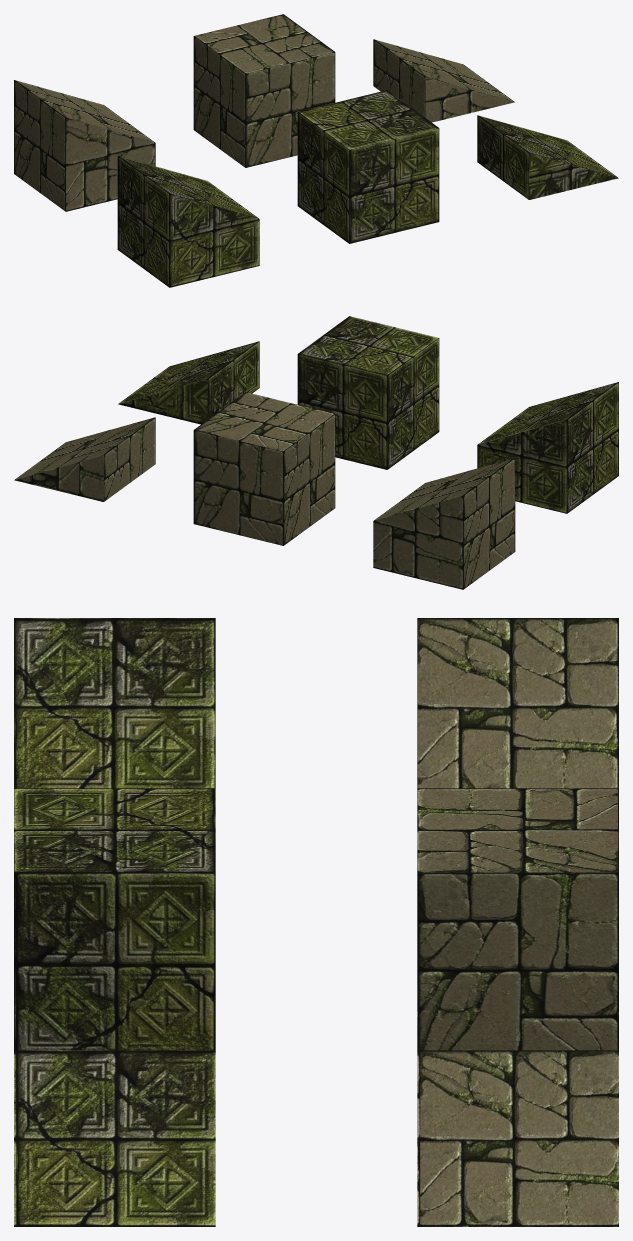
Rendered from tilescubes.glb.
3 views of the same model, one above another, from view 1: azimuth 30°, elevation 25°; view 2: azimuth 150°, elevation 25°; view 3: azimuth 270°, elevation 25° (orthographic). The views are drawn at different scales.
Visible parts, largest first — view 1: stonecube3-col, stonecube6-col, stonecube2-col, stonecube5-col, stonecube1-col, stonecube4-col; view 2: stonecube6-col, stonecube3-col, stonecube5-col, stonecube2-col, stonecube4-col, stonecube1-col; view 3: stonecube3-col, stonecube6-col, stonecube1-col, stonecube4-col, stonecube2-col, stonecube5-col.
Part boxes in pixels (x1,y1,x2,y2): stonecube3-col: (297,90,439,243); stonecube6-col: (193,14,335,167); stonecube2-col: (117,156,259,287); stonecube5-col: (14,80,155,211); stonecube1-col: (477,115,618,199); stonecube4-col: (373,39,514,122); stonecube6-col: (193,392,335,545); stonecube3-col: (297,316,439,469); stonecube5-col: (373,458,515,589); stonecube2-col: (477,382,618,513); stonecube4-col: (14,417,155,501); stonecube1-col: (118,341,259,424); stonecube3-col: (14,788,215,1050); stonecube6-col: (417,788,618,1050); stonecube1-col: (14,1050,215,1226); stonecube4-col: (417,1050,618,1226); stonecube2-col: (14,618,215,788); stonecube5-col: (417,618,618,788).
Bounding box in the file's own units: 10 × 2 × 6.
2 materials, 2 textured.
